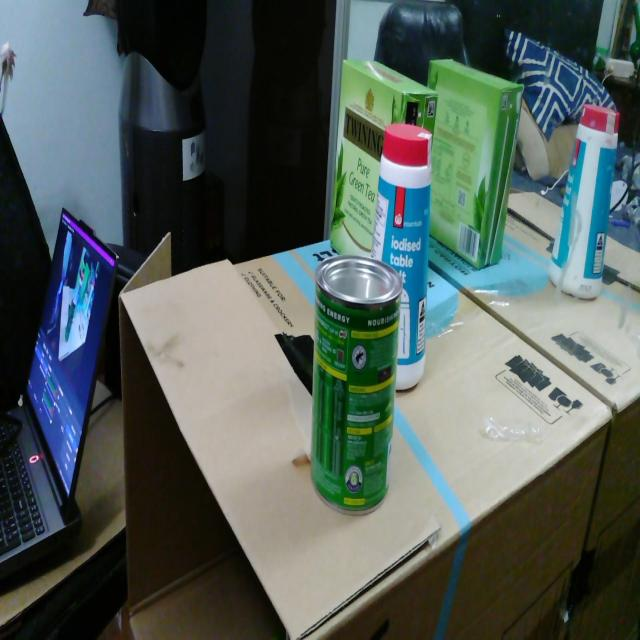nestle_milo_tin: (310, 255, 403, 515)
twinings_greentea_box: (331, 60, 438, 256)
woolworths_salt_bottle: (371, 123, 432, 390)
